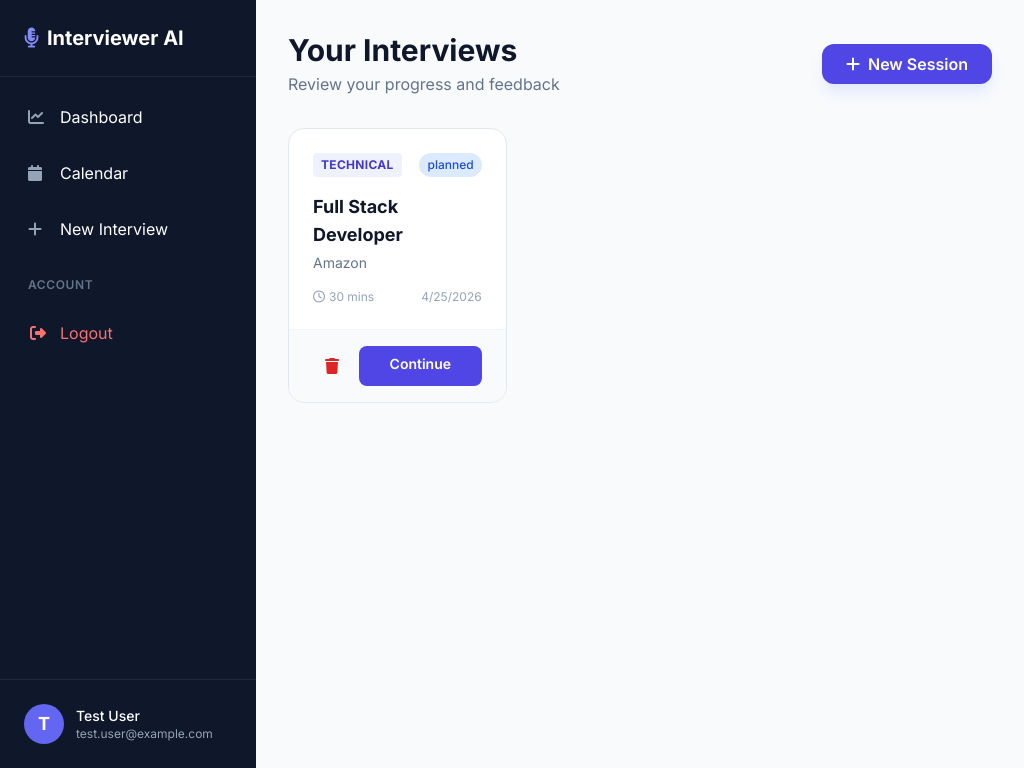
Test: AI Mock Interviewer frontend flows › opens a planned interview from the Continue CTA
Click the link "Continue": (421, 366) [359,346,482,386]
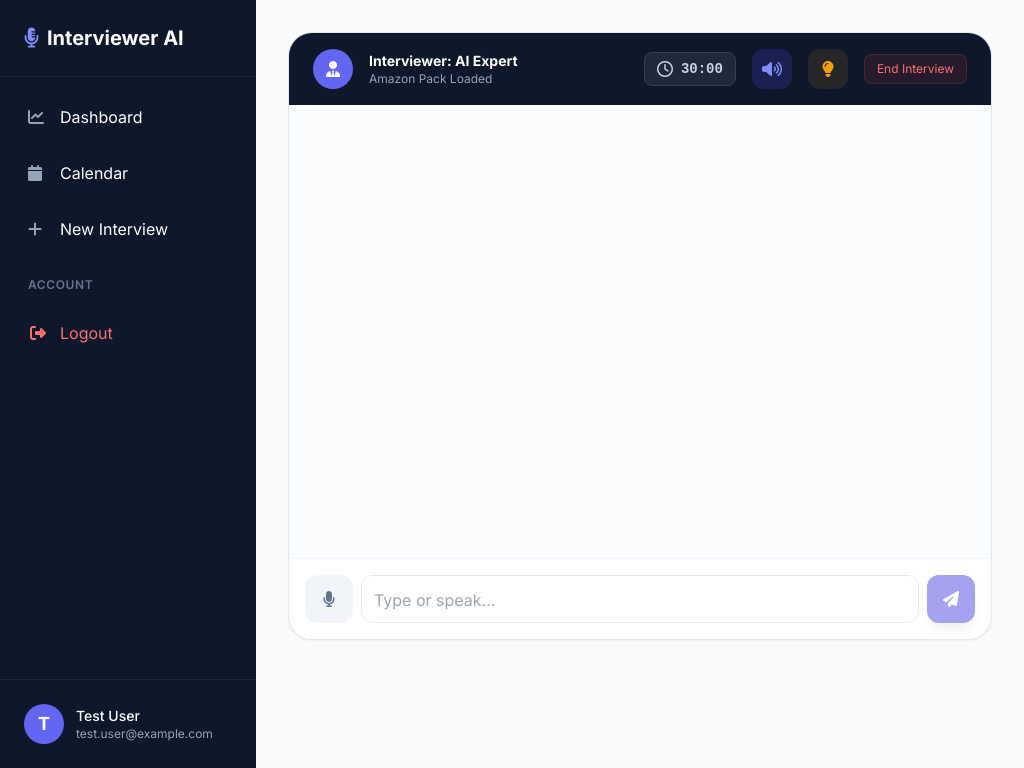
Expected: the heading "Interviewer: AI Expert" is shown, [369,51,518,71]
